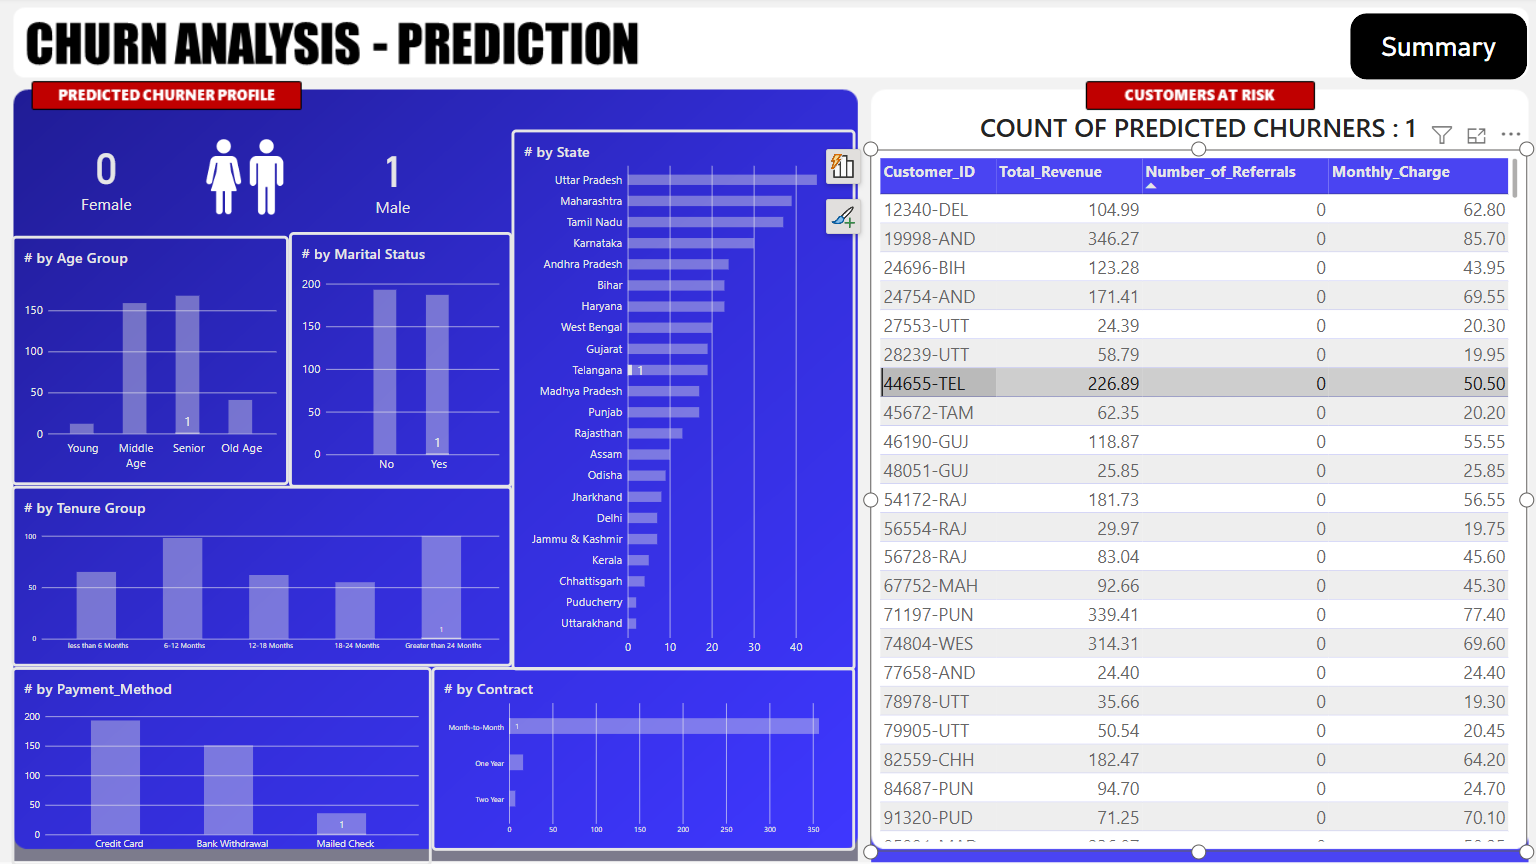

Layout of this report page (visuals, bound fields, positions):
{"tool":"powerbi","page":{"name":"Churn Prediction","canvas":[2560,1440],"ordinal":2},"visuals":[{"type":"tableEx","fields":{"Values":["Predictions.Customer_ID","Predictions.Total_Revenue","Predictions.Number_of_Referrals","Predictions.Monthly_Charge"]},"box":[1443.5,253.9,1089.3,1163.1],"z":0},{"type":"card","fields":{"Values":["Tbl_Measures.Title Predicted Churner"]},"box":[1496.7,135.8,983,159.4],"z":1000},{"type":"card","fields":{"Values":["Tbl_Measures.Count Predicted Churner"]},"box":[38.4,197.8,277.5,191.9],"z":2000},{"type":"card","fields":{"Values":["Tbl_Measures.Count Predicted Churner"]},"box":[498.9,200.7,307,191.9],"z":3000},{"type":"clusteredColumnChart","fields":{"Category":["Mapping_groupAge.Age Group"],"Y":["CountNonNull(Predictions.Customer_ID)"]},"box":[20,396,460,413.3],"z":4000},{"type":"clusteredColumnChart","fields":{"Category":["Predictions.Married"],"Y":["CountNonNull(Predictions.Customer_ID)"]},"box":[480,390,370,424],"z":5000},{"type":"clusteredColumnChart","fields":{"Category":["Predictions.Payment_Method"],"Y":["CountNonNull(Predictions.Customer_ID)"]},"box":[20,1110,696.7,330],"z":7000},{"type":"clusteredColumnChart","fields":{"Category":["Mapping_groupTenure.Tenure Group"],"Y":["CountNonNull(Predictions.Customer_ID)"]},"box":[20,810,830,300],"z":7500},{"type":"clusteredBarChart","fields":{"Category":["Predictions.State"],"Y":["CountNonNull(Predictions.Customer_ID)"]},"box":[850,220,570,896.7],"z":8000},{"type":"clusteredBarChart","fields":{"Category":["Predictions.Contract"],"Y":["CountNonNull(Predictions.Customer_ID)"]},"box":[717.1,1110.9,702.6,304.7],"z":9000},{"type":"image","box":[312.9,218.5,188.9,159.4],"z":10000},{"type":"shape","box":[2240,26.7,293.3,110],"z":11000}]}

Visuals, with their boxes in screenshot pixels (x1, y1, x2, y2), scaled from the page's 2560x1440 canvas onto the 1536x864 screenshot:
tableEx - Predictions.Customer_ID x Predictions.Total_Revenue: <bbox>866, 152, 1520, 850</bbox>
card - Tbl_Measures.Title Predicted Churner: <bbox>898, 81, 1488, 177</bbox>
card - Tbl_Measures.Count Predicted Churner: <bbox>23, 119, 190, 234</bbox>
card - Tbl_Measures.Count Predicted Churner: <bbox>299, 120, 484, 236</bbox>
clusteredColumnChart - Mapping_groupAge.Age Group x CountNonNull(Predictions.Customer_ID): <bbox>12, 238, 288, 486</bbox>
clusteredColumnChart - Predictions.Married x CountNonNull(Predictions.Customer_ID): <bbox>288, 234, 510, 488</bbox>
clusteredColumnChart - Predictions.Payment_Method x CountNonNull(Predictions.Customer_ID): <bbox>12, 666, 430, 863</bbox>
clusteredColumnChart - Mapping_groupTenure.Tenure Group x CountNonNull(Predictions.Customer_ID): <bbox>12, 486, 510, 666</bbox>
clusteredBarChart - Predictions.State x CountNonNull(Predictions.Customer_ID): <bbox>510, 132, 852, 670</bbox>
clusteredBarChart - Predictions.Contract x CountNonNull(Predictions.Customer_ID): <bbox>430, 667, 852, 849</bbox>
image: <bbox>188, 131, 301, 227</bbox>
shape: <bbox>1344, 16, 1520, 82</bbox>
